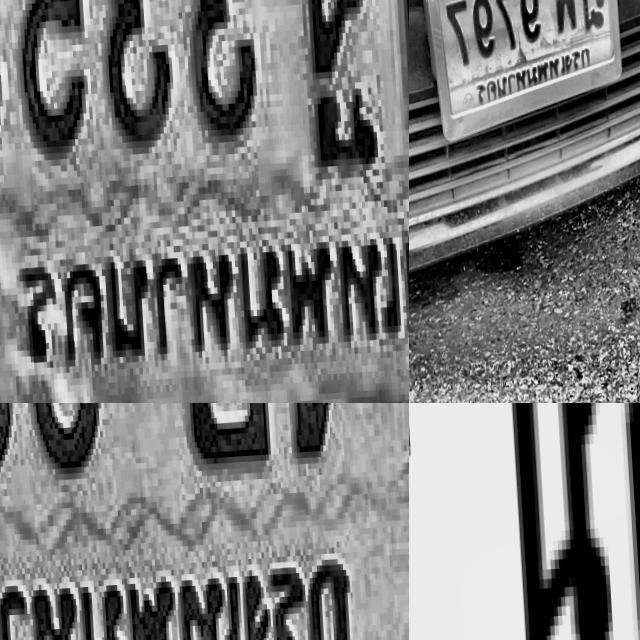license-plate: (0, 0, 409, 403), (0, 403, 409, 640), (409, 403, 640, 640), (419, 0, 620, 155)
